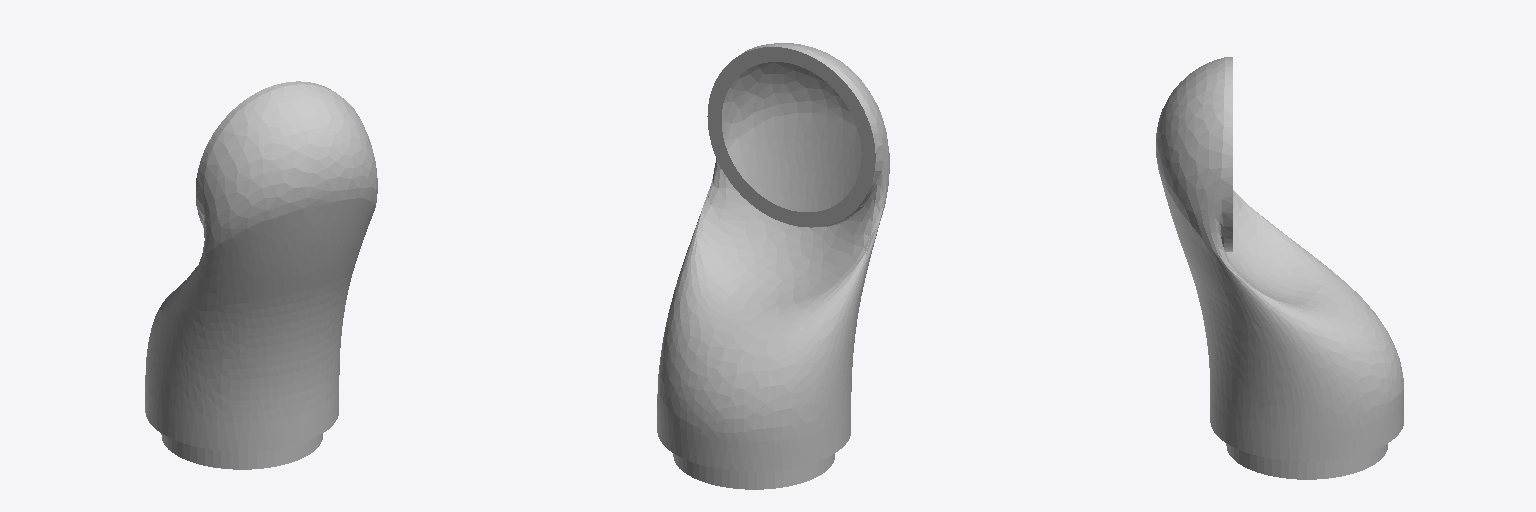
Rendered from kuka-link5.obj.
3 renders of one model, left to right at view 1: azimuth 30°, elevation 25°; view 2: azimuth 150°, elevation 25°; view 3: azimuth 270°, elevation 25°, orthographic.
Parts seen in each view (by area): view 1: object; view 2: object; view 3: object.
Part boxes in pixels (x1,y1,x2,y2): object: (145, 81, 377, 469); object: (657, 43, 889, 489); object: (1156, 57, 1403, 479).
Bounding box in the file's own units: 120 × 259 × 154.